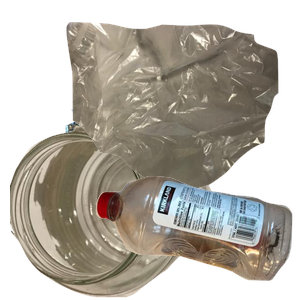glass: (10, 126, 216, 300)
metal: (61, 54, 225, 202)
plastic: (93, 173, 300, 300)
trash: (64, 20, 300, 200)
